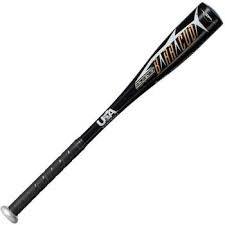baseball bat: (1, 1, 223, 225)
